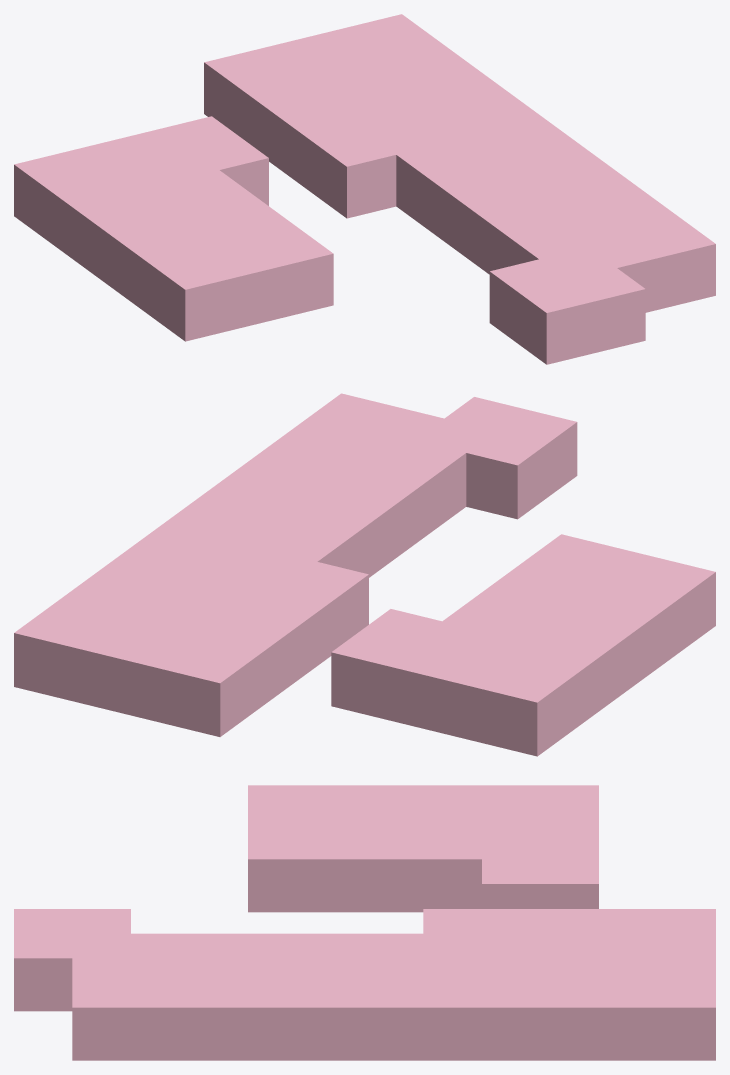
The model's file is Penang.fbx.
3 views of the same model, one above another, from view 1: azimuth 30°, elevation 25°; view 2: azimuth 150°, elevation 25°; view 3: azimuth 270°, elevation 25° (orthographic). The views are drawn at different scales.
Parts seen in each view (by area): view 1: Penang; view 2: Penang; view 3: Penang.
Boxes of the visible parts, box(x1,y1,x2,y2) form: Penang: box(14, 14, 715, 364); Penang: box(14, 393, 715, 756); Penang: box(14, 785, 715, 1060).
Bounding box in the file's own units: 9 × 1 × 12.
1 material, 1 textured.
